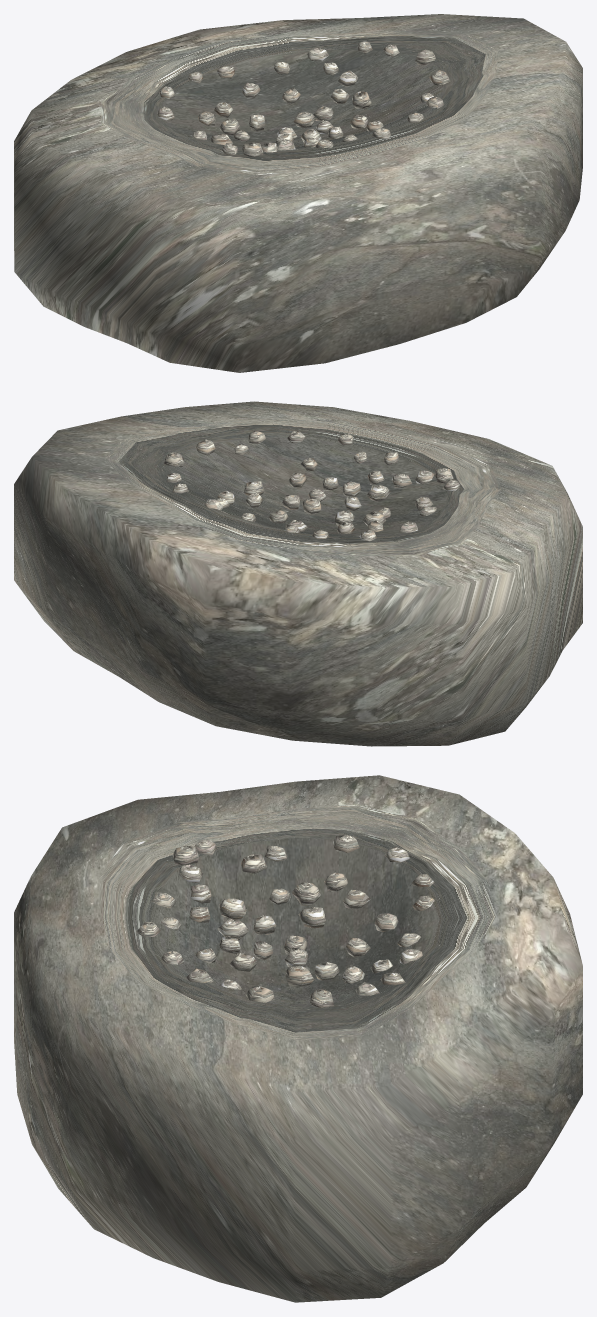
Rendered from kit_sr_counting_stone_p.glb.
The picture shows the model from 3 angles, top to bottom: view 1: azimuth 30°, elevation 25°; view 2: azimuth 150°, elevation 25°; view 3: azimuth 270°, elevation 25°; orthographic projection. The views are drawn at different scales.
Parts seen in each view (by area): view 1: kit_sr_counting_stone_p; view 2: kit_sr_counting_stone_p; view 3: kit_sr_counting_stone_p.
Part boxes in pixels (x1,y1,x2,y2): kit_sr_counting_stone_p: (14, 14, 582, 372); kit_sr_counting_stone_p: (14, 401, 582, 746); kit_sr_counting_stone_p: (14, 775, 582, 1302).
Bounding box in the file's own units: 1.47 × 0.4844 × 1.05.
Materials: 1 (1 with a texture image).
